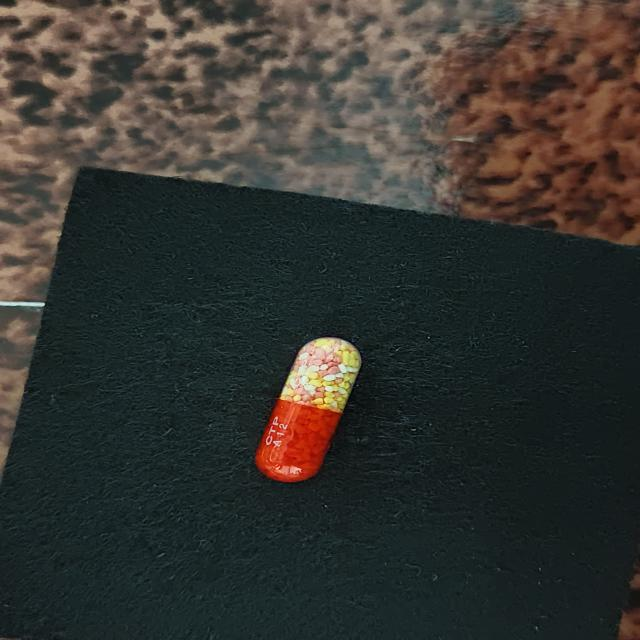Intact Capsule: (255, 337, 361, 482)
